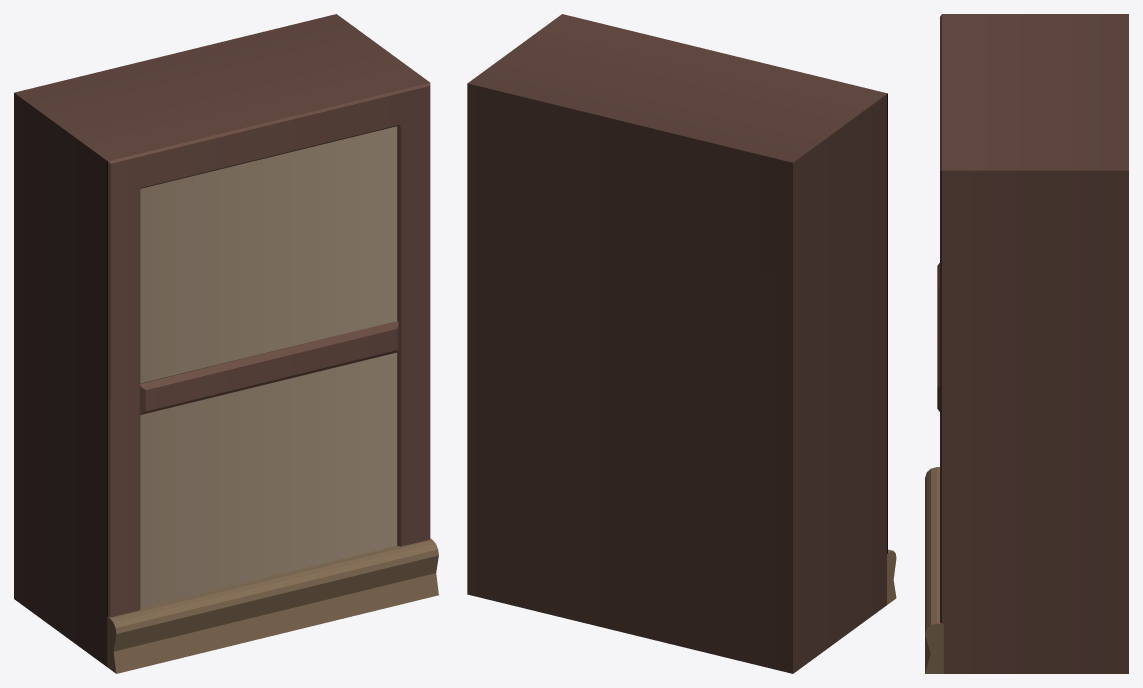
Rendered from paredeMadeira_Lab_varianteUm_LoPo.fbx.
3 renders of one model, left to right at view 1: azimuth 30°, elevation 25°; view 2: azimuth 150°, elevation 25°; view 3: azimuth 270°, elevation 25°, orthographic.
Parts seen in each view (by area): view 1: paredeMadeira_Lab_varianteUm_LoPo; view 2: paredeMadeira_Lab_varianteUm_LoPo; view 3: paredeMadeira_Lab_varianteUm_LoPo.
Boxes of the visible parts, x1,y1,x2,y2 form: paredeMadeira_Lab_varianteUm_LoPo: [14, 14, 438, 673]; paredeMadeira_Lab_varianteUm_LoPo: [467, 14, 896, 673]; paredeMadeira_Lab_varianteUm_LoPo: [925, 14, 1128, 673].
Bounding box in the file's own units: 200 × 300 × 110.
